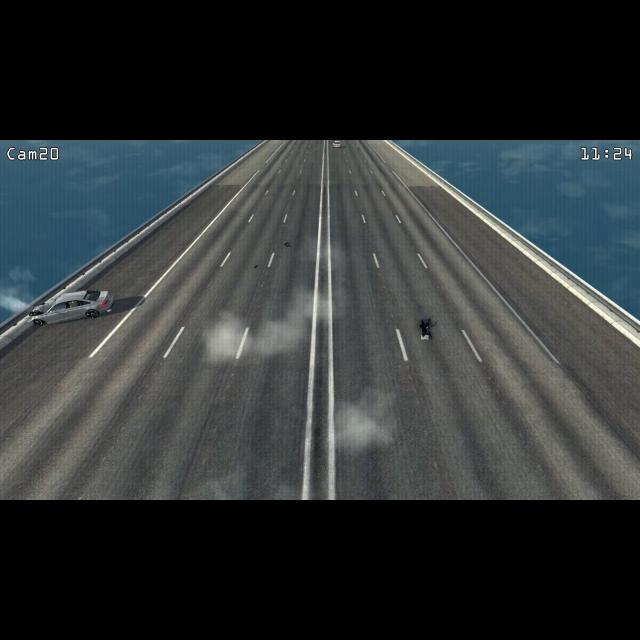accident: (18, 286, 118, 329)
